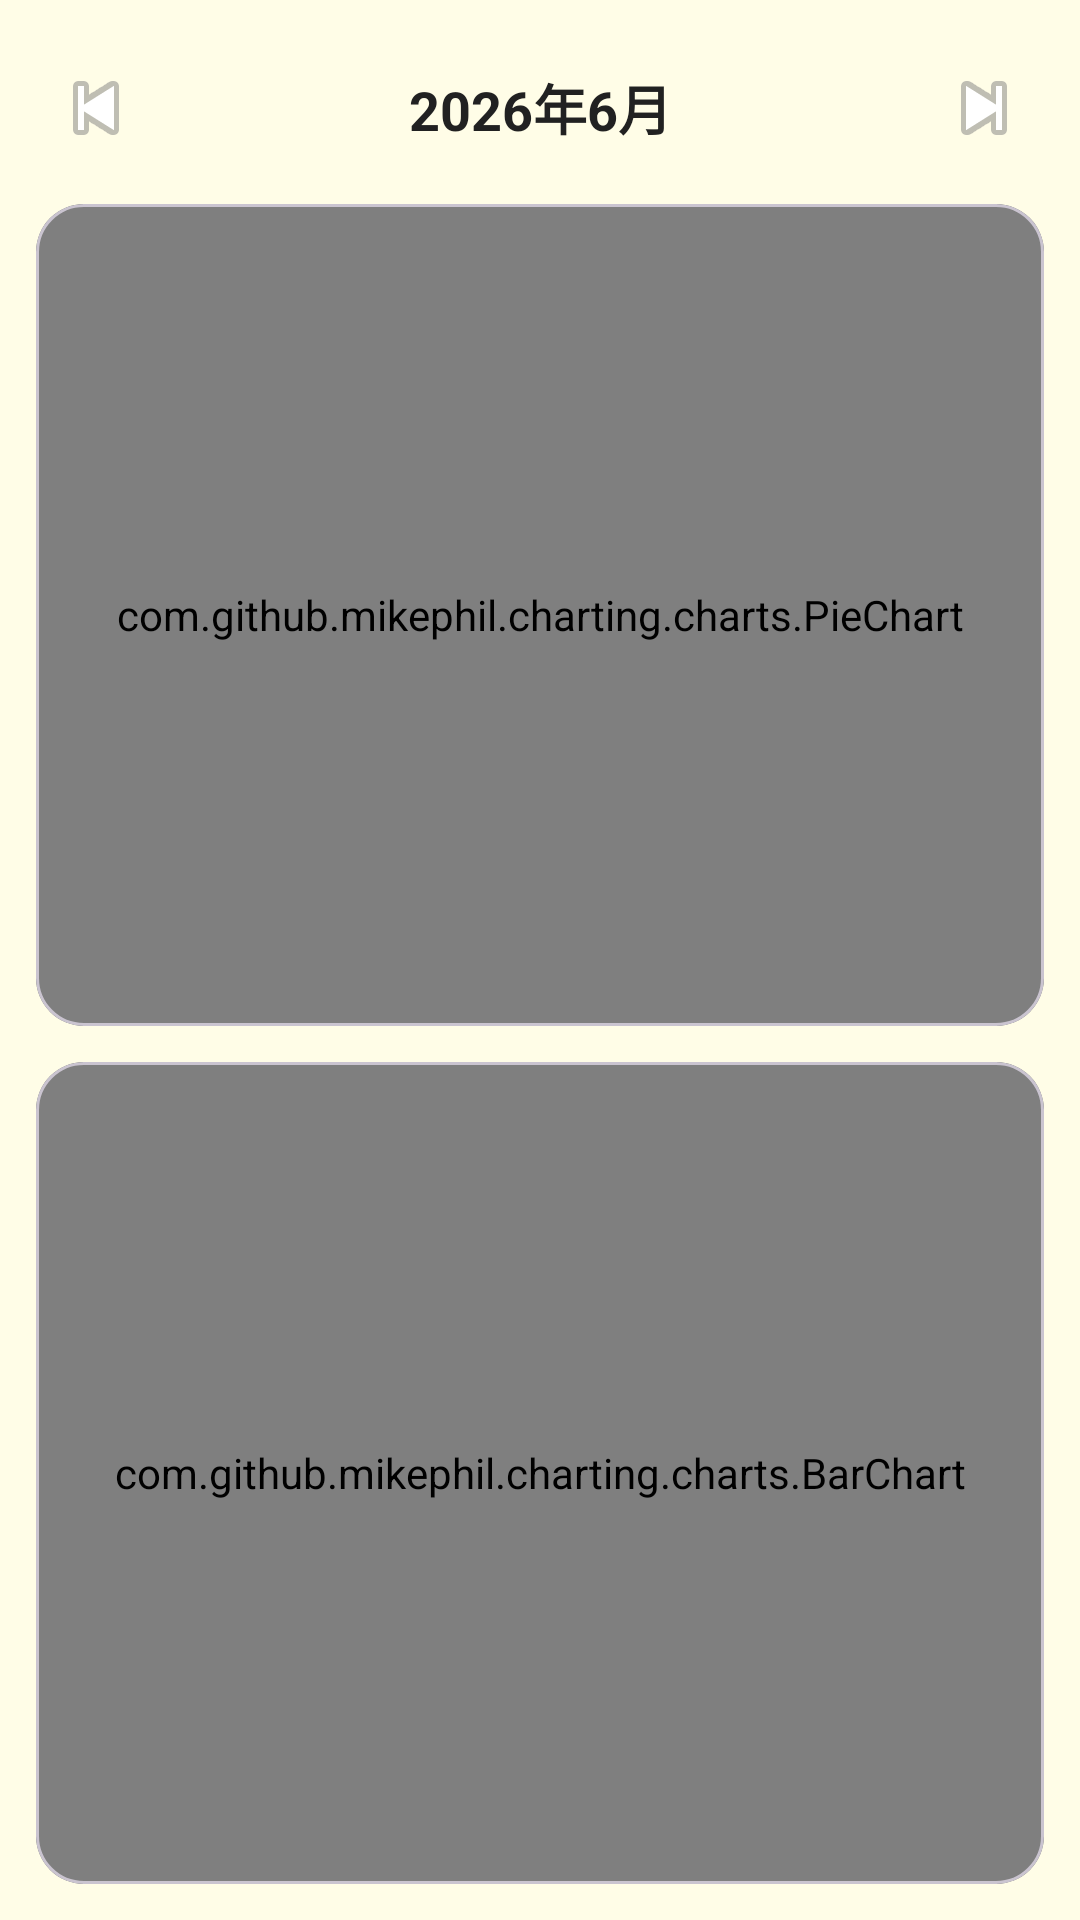

Where to tap for icons on this 1080*1920 app screen, as (x=x, y=y):
上个月: (x=96, y=108)
下个月: (x=984, y=108)
